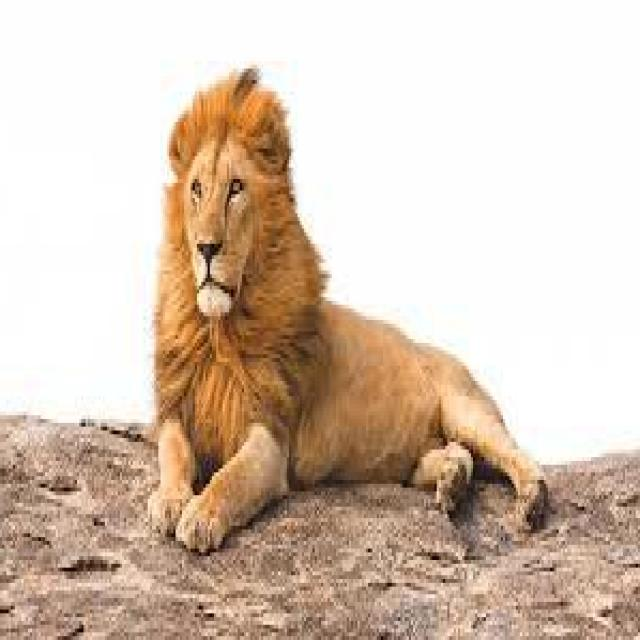lion: (150, 69, 548, 549)
